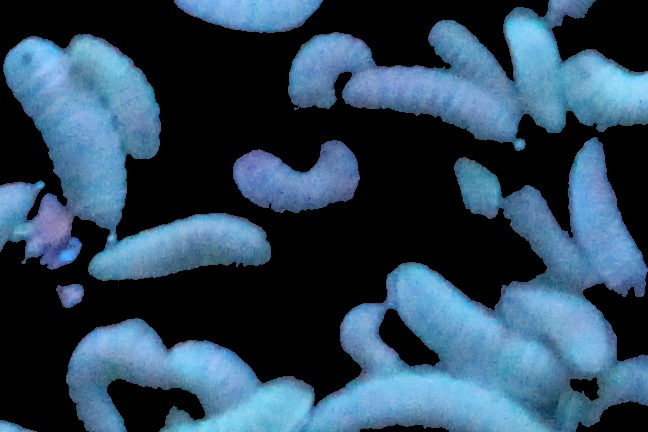larvae: (392, 265, 571, 393), (4, 44, 128, 226), (319, 369, 542, 432), (565, 142, 648, 295), (75, 37, 177, 159), (85, 215, 270, 281), (347, 66, 499, 146), (232, 138, 369, 222), (66, 320, 168, 432), (500, 275, 614, 372), (431, 17, 524, 116), (501, 7, 572, 127), (168, 377, 319, 432), (166, 328, 259, 413), (564, 49, 648, 133), (288, 34, 370, 113), (166, 1, 332, 35)
